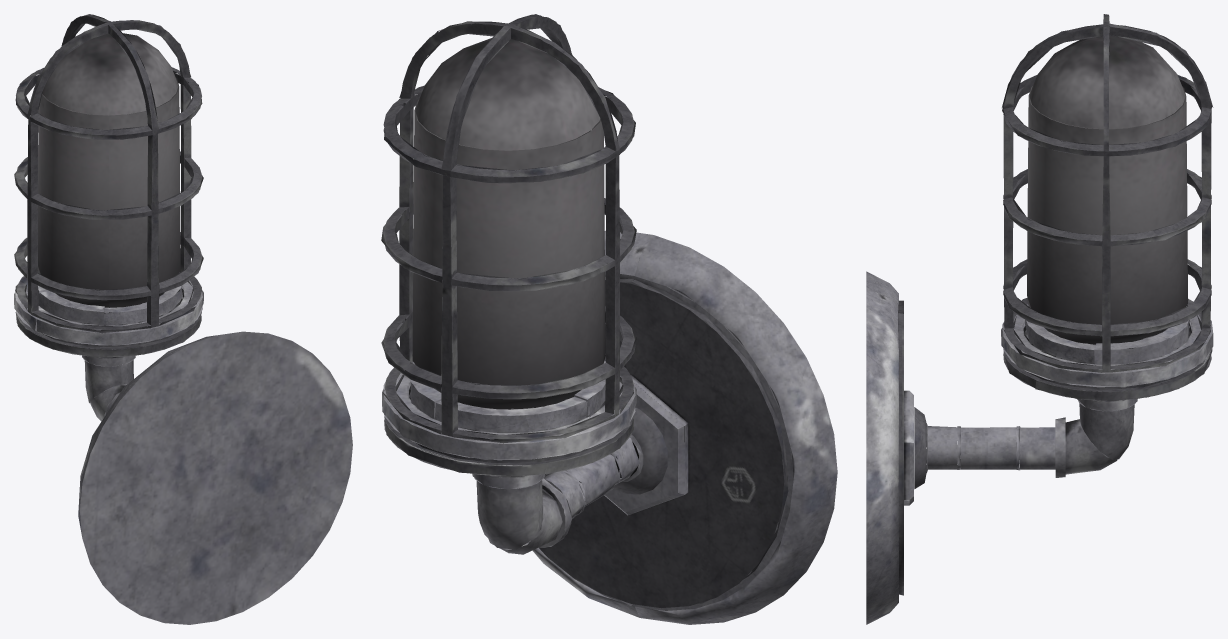
3 views of the same model, side by side, from view 1: azimuth 30°, elevation 25°; view 2: azimuth 150°, elevation 25°; view 3: azimuth 270°, elevation 25° (orthographic). The views are drawn at different scales.
Parts seen in each view (by area): view 1: industrial_caged_sconce_a.001; view 2: industrial_caged_sconce_a.001; view 3: industrial_caged_sconce_a.001.
Part boxes in pixels (x1,y1,x2,y2): industrial_caged_sconce_a.001: (14,14,352,624); industrial_caged_sconce_a.001: (381,14,837,624); industrial_caged_sconce_a.001: (866,14,1213,624).
Size of the model in its own units: 0.2102 by 0.3825 by 0.2061.
1 material, 1 textured.
